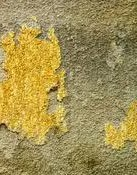Corrosion: (1, 23, 70, 146), (103, 101, 137, 151)
